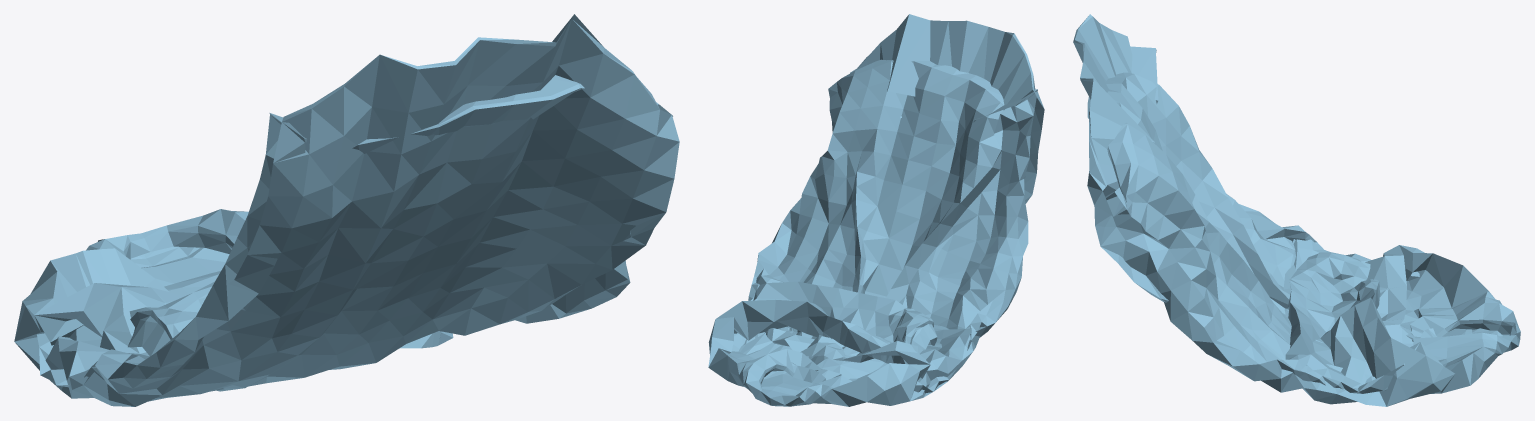
The model's file is frame_06.glb.
3 renders of one model, left to right at view 1: azimuth 30°, elevation 25°; view 2: azimuth 150°, elevation 25°; view 3: azimuth 270°, elevation 25°, orthographic. The views are drawn at different scales.
Parts seen in each view (by area): view 1: frame_06.obj; view 2: frame_06.obj; view 3: frame_06.obj.
Boxes of the visible parts, left/top/right/bottom form: frame_06.obj: left=14, top=14, right=679, bottom=406; frame_06.obj: left=708, top=14, right=1044, bottom=406; frame_06.obj: left=1073, top=14, right=1520, bottom=406.
Bounding box in the file's own units: 1.06 × 1.07 × 1.42.
